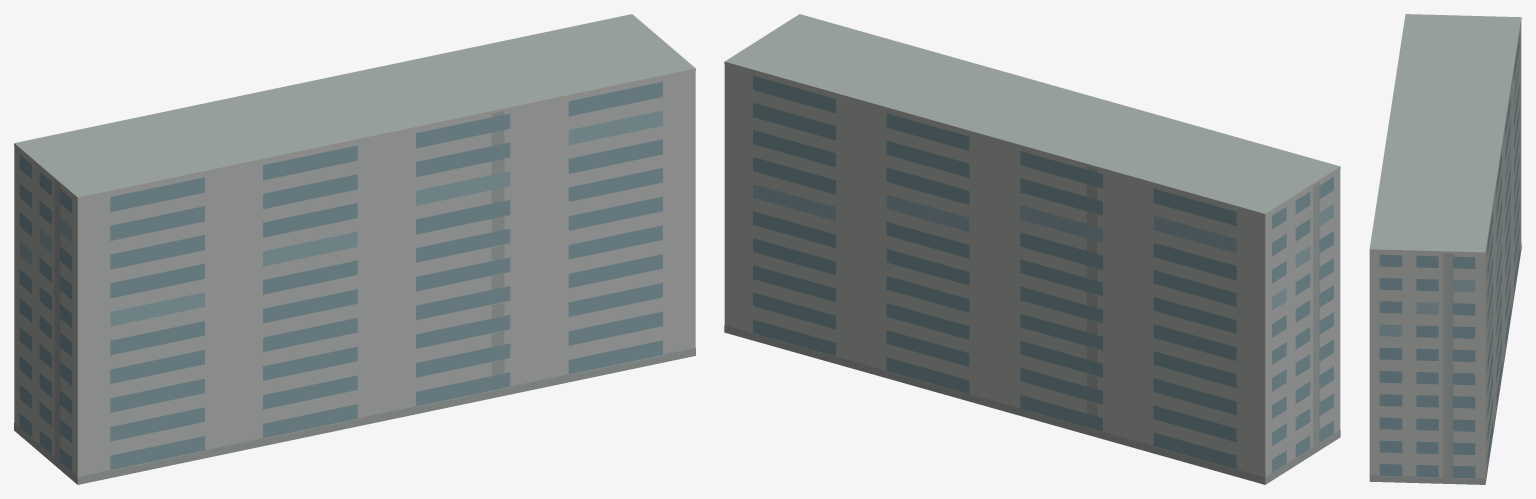
File: residential-3c49e038-6285-4c5f-9094-5cf0c30d90fa.glb
The picture shows the model from 3 angles, left to right: view 1: azimuth 30°, elevation 25°; view 2: azimuth 150°, elevation 25°; view 3: azimuth 270°, elevation 25°; orthographic projection. The views are drawn at different scales.
Visible parts, largest first — view 1: residential-3c49e038-6285-4c5f-9094-5cf0c30d90fa.tmp; view 2: residential-3c49e038-6285-4c5f-9094-5cf0c30d90fa.tmp; view 3: residential-3c49e038-6285-4c5f-9094-5cf0c30d90fa.tmp.
Part boxes in pixels (left/top/right/bottom): residential-3c49e038-6285-4c5f-9094-5cf0c30d90fa.tmp: left=14, top=14, right=695, bottom=484; residential-3c49e038-6285-4c5f-9094-5cf0c30d90fa.tmp: left=724, top=14, right=1340, bottom=484; residential-3c49e038-6285-4c5f-9094-5cf0c30d90fa.tmp: left=1369, top=14, right=1521, bottom=484.
Size of the model in its own units: 59.38 by 27 by 16.
